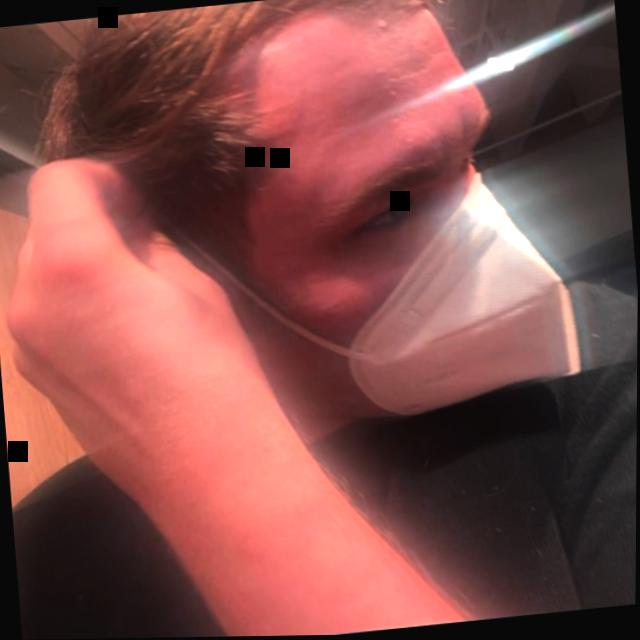Mask: (55, 0, 619, 445)
